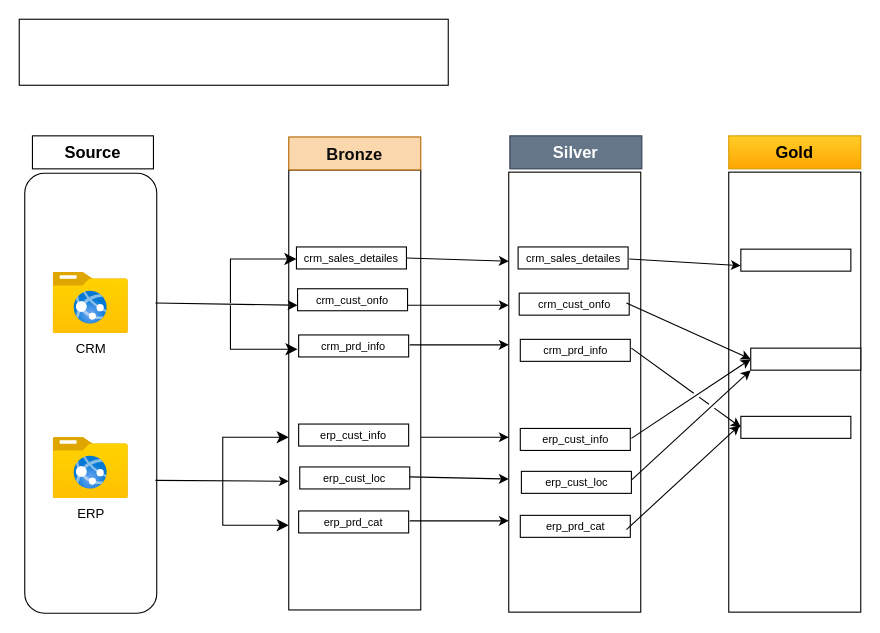
Some shapes in this 880 by 633 pixel diagram are drawn without their labels. Each missing label, with the centre of its shape:
Data Flow Diagrame: (233,51)
dim.product: (795,426)
dim_customer: (805,358)
fact.saaels: (795,259)
